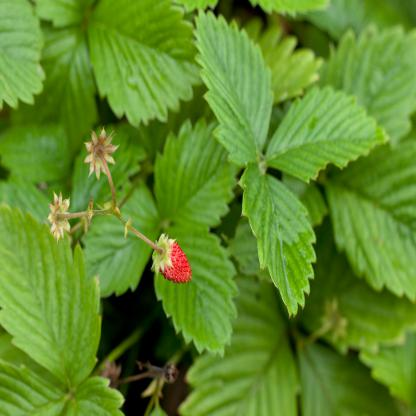strawberry leaf: (190, 6, 280, 170), (236, 153, 323, 319), (267, 83, 389, 182)
